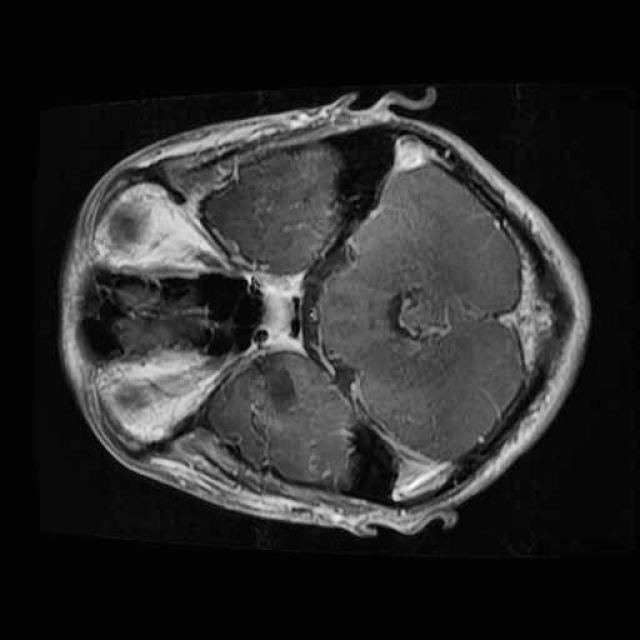Tumor: (232, 340, 322, 429)
